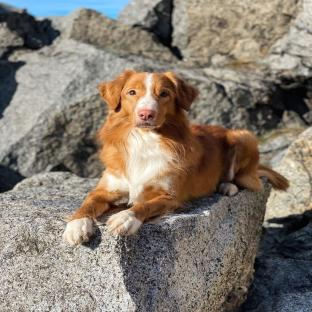Animal: (63, 70, 289, 246)
